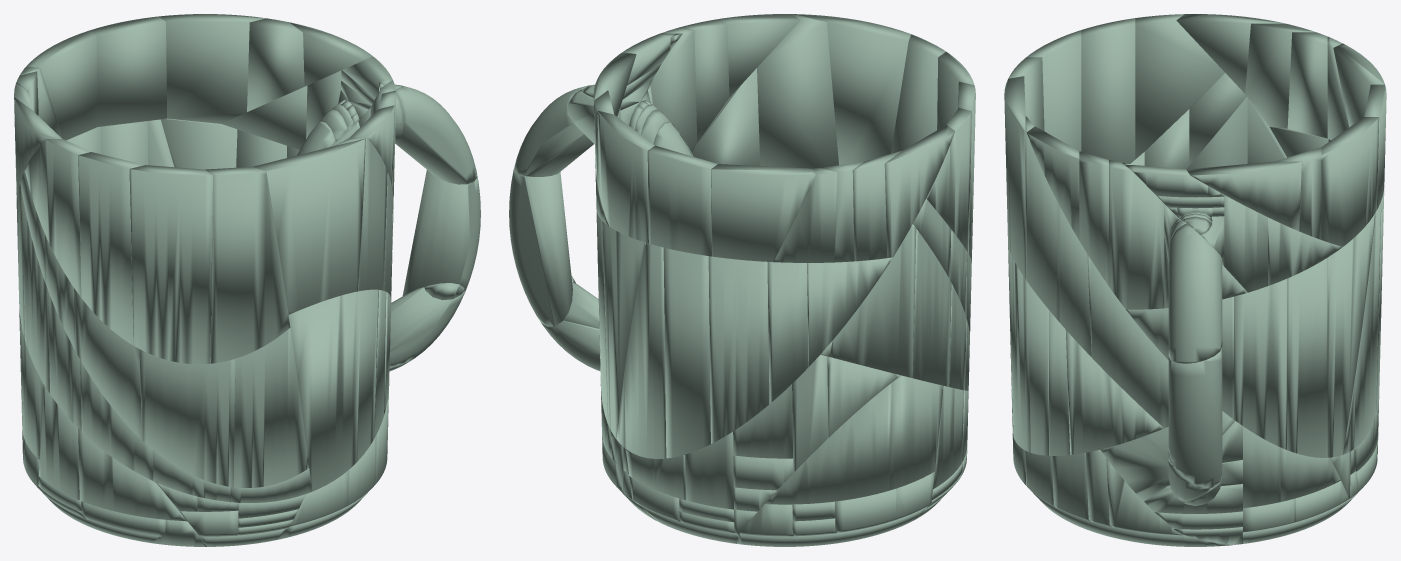
Rendered from collision-hulls.glb.
The picture shows the model from 3 angles, left to right: view 1: azimuth 30°, elevation 25°; view 2: azimuth 150°, elevation 25°; view 3: azimuth 270°, elevation 25°; orthographic projection.
Visible parts, largest first — view 1: fragment-006-hull-01, fragment-010-hull-00, fragment-011-hull-00, fragment-006-hull-00, fragment-016-hull-01, fragment-016-hull-00, fragment-006-hull-02, fragment-022-hull-02, fragment-022-hull-03, fragment-003-hull-00, fragment-006-hull-03, fragment-016-hull-02 (+43 smaller); view 2: fragment-011-hull-01, fragment-008-hull-02, fragment-011-hull-00, fragment-008-hull-01, fragment-022-hull-04, fragment-008-hull-00, fragment-019-hull-01, fragment-003-hull-00, fragment-017-hull-05, fragment-022-hull-03, fragment-022-hull-02, fragment-009-hull-03 (+46 smaller); view 3: fragment-009-hull-01, fragment-006-hull-03, fragment-009-hull-02, fragment-006-hull-02, fragment-015-hull-02, fragment-009-hull-03, fragment-015-hull-03, fragment-011-hull-02, fragment-003-hull-00, fragment-010-hull-00, fragment-022-hull-02, fragment-010-hull-01 (+49 smaller).
Part boxes in pixels (x1,y1,x2,y2): fragment-006-hull-01: (129, 165, 212, 364); fragment-010-hull-00: (288, 289, 378, 491); fragment-011-hull-00: (253, 138, 365, 314); fragment-006-hull-00: (205, 166, 290, 363); fragment-016-hull-01: (139, 349, 235, 487); fragment-016-hull-00: (233, 328, 309, 487); fragment-006-hull-02: (78, 152, 144, 345); fragment-022-hull-02: (159, 14, 265, 123); fragment-022-hull-03: (89, 16, 167, 126); fragment-003-hull-00: (402, 170, 480, 295); fragment-006-hull-03: (25, 139, 90, 297); fragment-016-hull-02: (74, 288, 141, 439); fragment-011-hull-01: (757, 14, 838, 168); fragment-008-hull-02: (708, 256, 769, 443); fragment-011-hull-00: (794, 14, 910, 165); fragment-008-hull-01: (663, 247, 710, 458); fragment-022-hull-04: (711, 164, 816, 262); fragment-008-hull-00: (616, 242, 666, 458); fragment-019-hull-01: (765, 383, 891, 504); fragment-003-hull-00: (509, 169, 572, 326); fragment-017-hull-05: (830, 224, 916, 378); fragment-022-hull-03: (647, 145, 717, 256); fragment-022-hull-02: (597, 110, 654, 243); fragment-009-hull-03: (602, 221, 645, 438); fragment-009-hull-01: (1234, 279, 1287, 449); fragment-006-hull-03: (1135, 14, 1224, 159); fragment-009-hull-02: (1287, 258, 1327, 457); fragment-006-hull-02: (1081, 18, 1135, 163); fragment-015-hull-02: (1109, 160, 1164, 309); fragment-009-hull-03: (1327, 213, 1375, 457); fragment-015-hull-03: (1168, 223, 1222, 363); fragment-011-hull-02: (1087, 254, 1168, 428); fragment-003-hull-00: (1168, 347, 1222, 488); fragment-010-hull-00: (1008, 244, 1048, 455); fragment-022-hull-02: (1321, 117, 1379, 246); fragment-010-hull-01: (1065, 330, 1164, 454).
Bounding box in the file's own units: 0.12 × 0.1004 × 0.0908.
